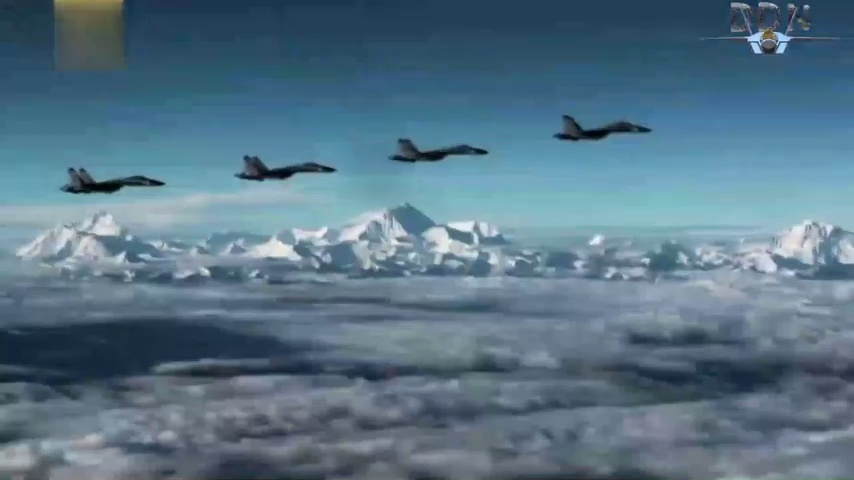military drone: (58, 167, 166, 194), (232, 154, 338, 181), (552, 114, 653, 141), (388, 137, 488, 162)
